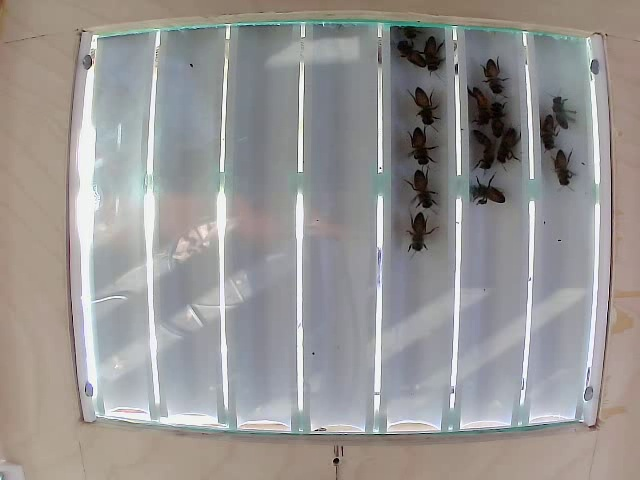bee: (402, 124, 439, 170), (396, 210, 429, 260), (470, 174, 510, 215), (406, 170, 439, 214), (550, 148, 581, 192), (479, 61, 513, 100), (550, 90, 580, 134), (392, 35, 425, 73), (535, 112, 564, 154), (408, 82, 439, 121), (468, 83, 491, 133), (484, 96, 510, 139), (470, 129, 497, 168), (427, 33, 450, 78), (496, 128, 522, 166)
